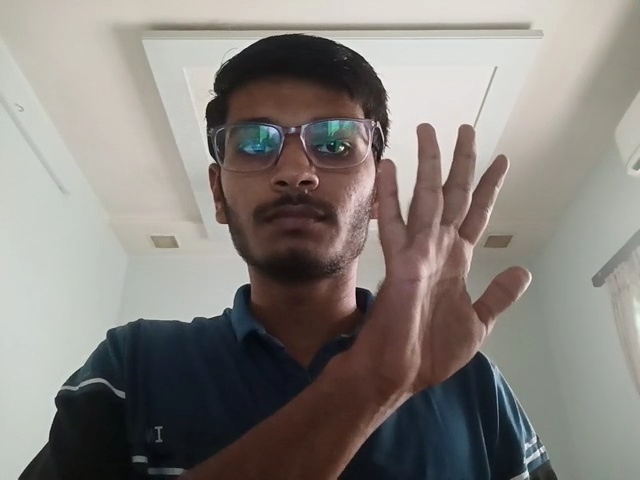Hello: (363, 112, 535, 408)
